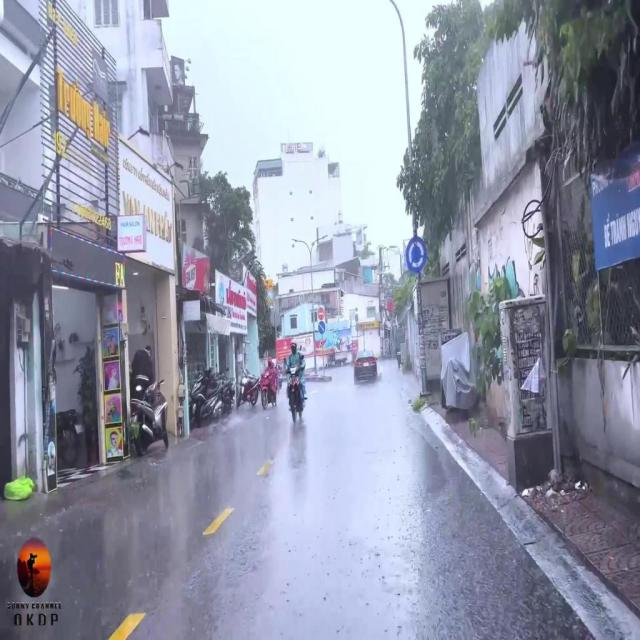cam_xe_di_nguoc_chieu: (318, 308, 325, 320)
huong_phai_di_vuot_chuong_ngai_vat_phai: (318, 321, 325, 334)
noi_giao_nhau_chay_theo_vong: (406, 235, 428, 272)
